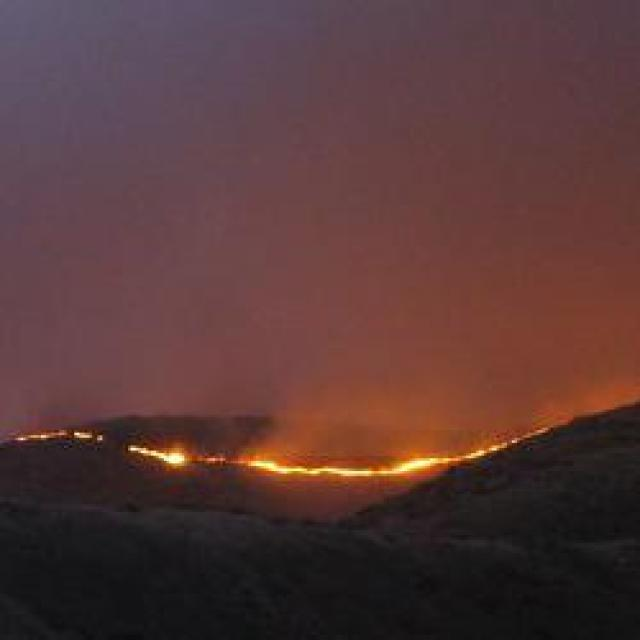Fire: (250, 456, 456, 474)
